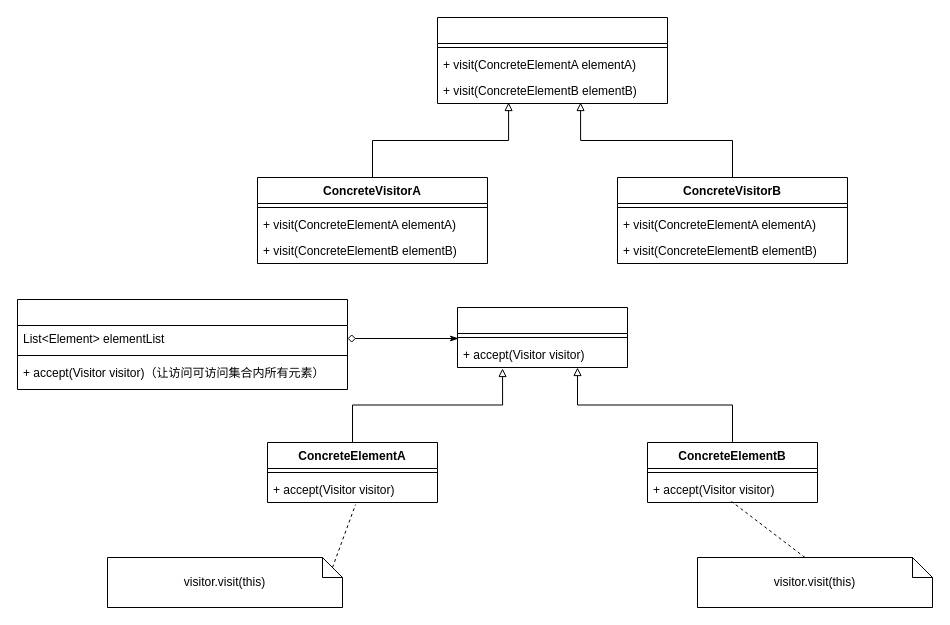
Image size: 950x625. Some labels were removed from this diagram. Here are the shapes that lost their labels. From the top down, the box of each, then its label:
(436, 16, 668, 104): Visitor {abstract}（访问者）
(16, 298, 348, 390): ObjectStructure
(456, 306, 628, 368): Element(被访问元素)
